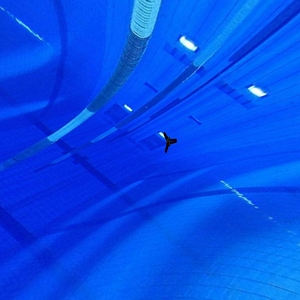submarine: (156, 126, 182, 155)
